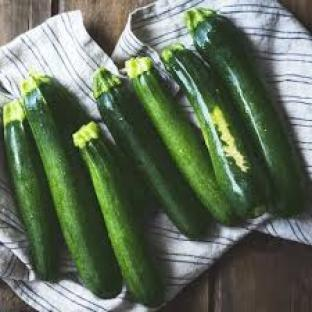Zucchini: (186, 9, 306, 215), (23, 77, 122, 298), (93, 69, 209, 238), (163, 45, 267, 218), (127, 58, 235, 224), (74, 122, 163, 306), (3, 101, 59, 279), (30, 72, 90, 175)
